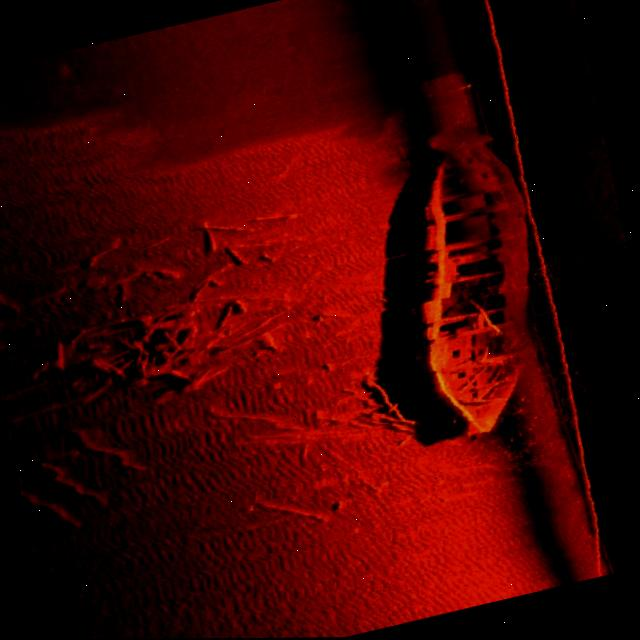shipwreck: (339, 57, 578, 450)
